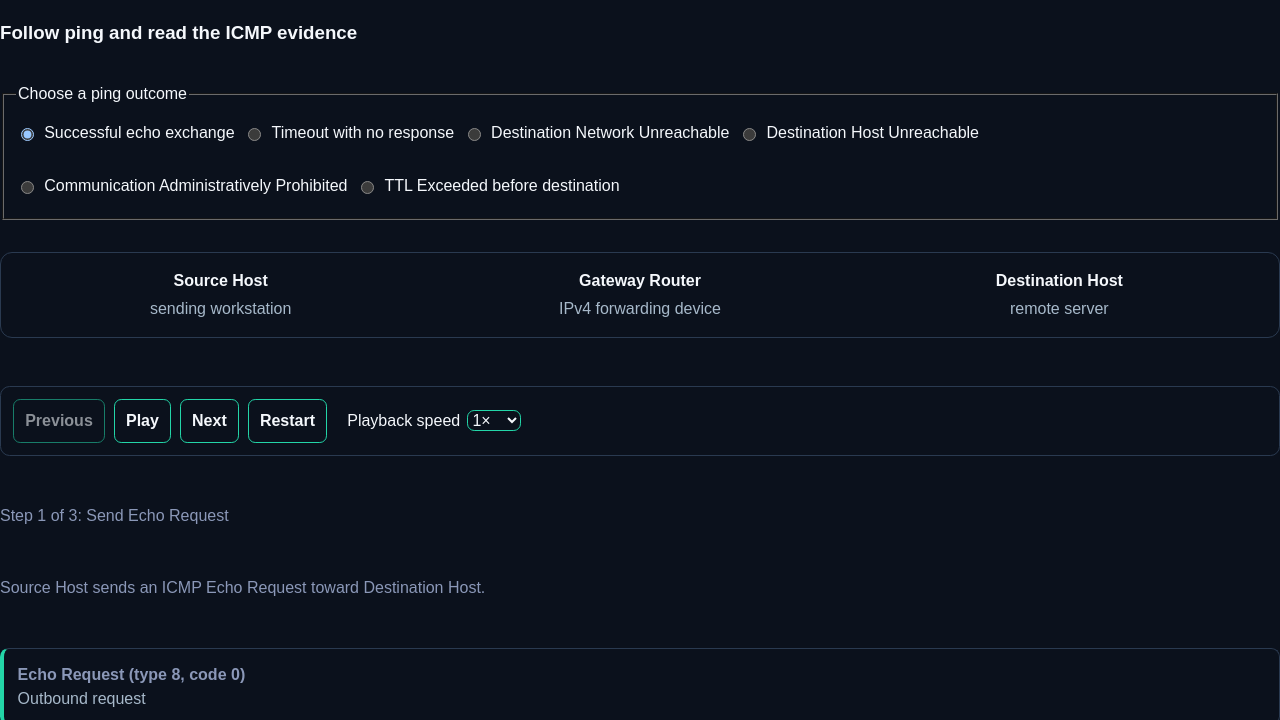
Test: PingEvidencePlayer › represents timeout as absent evidence and never invents an Echo Reply
Click the radio button labelled "Timeout with no response": (255, 135) [248,128,261,141]
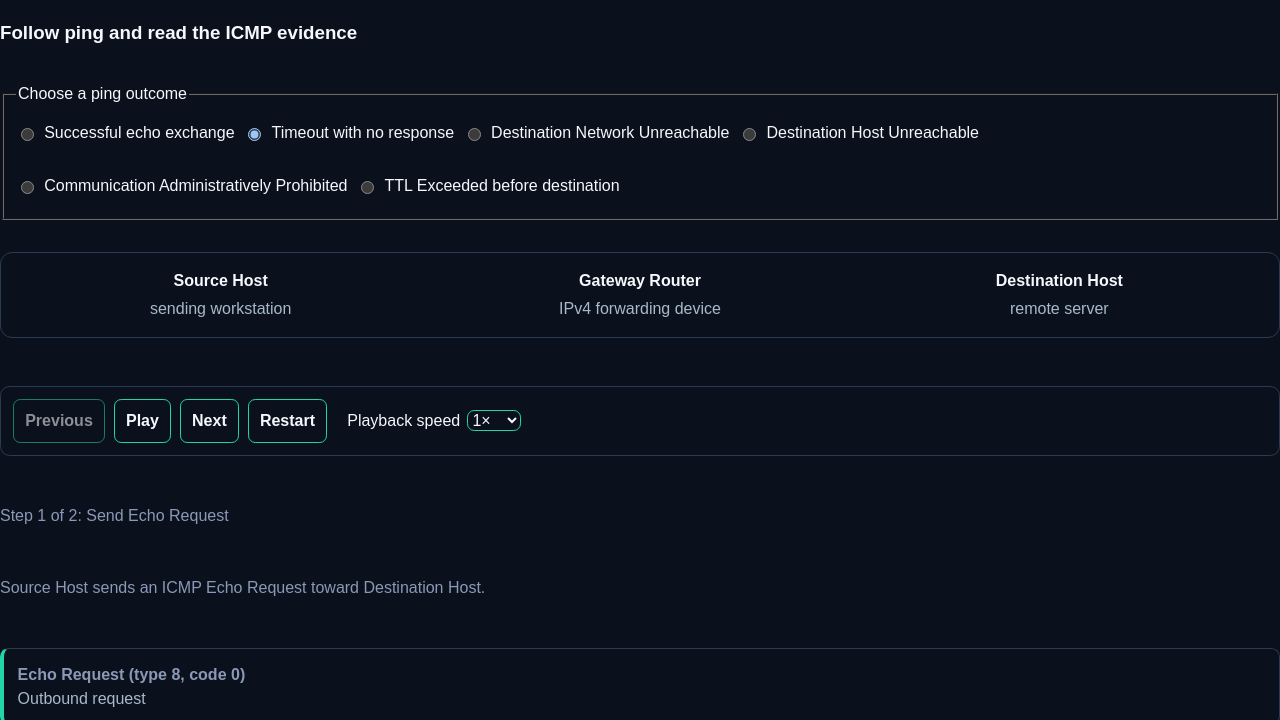
Click the button "Next": (209, 421) [180,399,239,443]
(page scrolled)
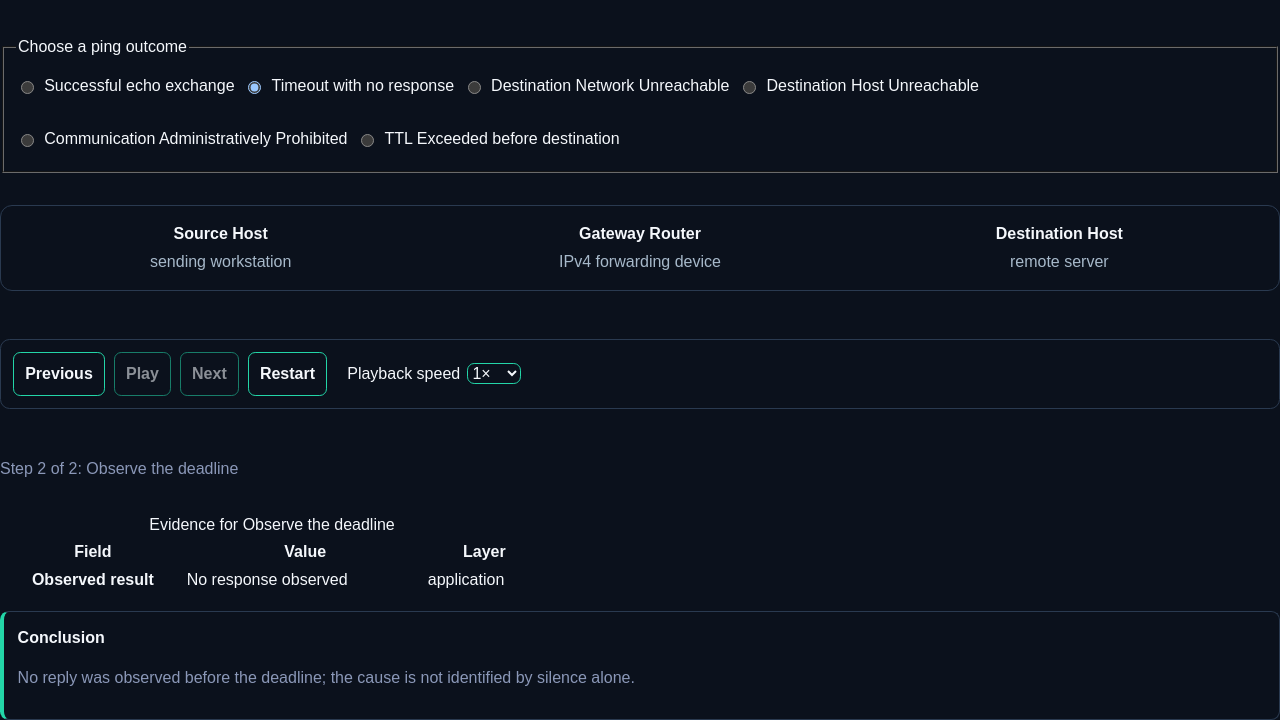
Now the text "No response observed" is shown, box [186,567,425,593]
Now the text "No reply was observed before the deadline" is shown, box [18,668,635,686]
